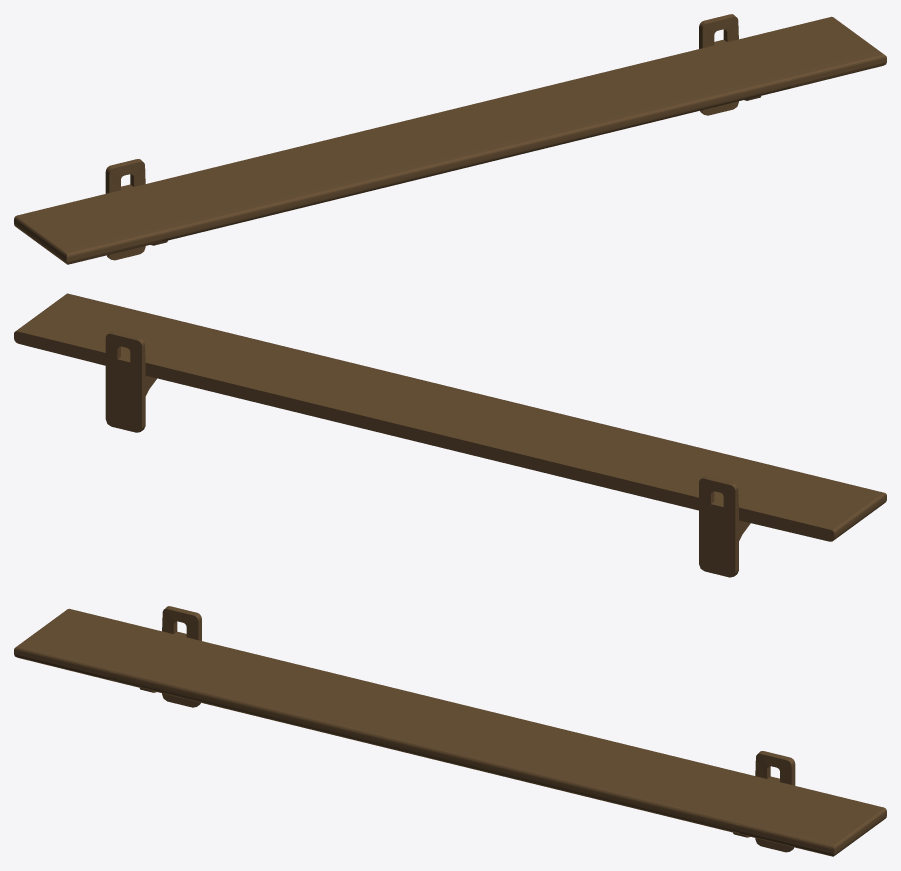
Rendered from Repisa10x1.fbx.
The picture shows the model from 3 angles, top to bottom: view 1: azimuth 30°, elevation 25°; view 2: azimuth 150°, elevation 25°; view 3: azimuth 330°, elevation 25°; orthographic projection.
Parts seen in each view (by area): view 1: Habitacion_Repisa02_GEO; view 2: Habitacion_Repisa02_GEO; view 3: Habitacion_Repisa02_GEO.
Boxes of the visible parts, x1,y1,x2,y2 form: Habitacion_Repisa02_GEO: (14,14,886,264); Habitacion_Repisa02_GEO: (14,293,886,577); Habitacion_Repisa02_GEO: (14,606,886,856).
Bounding box in the file's own units: 10 × 1.08 × 1.19.
